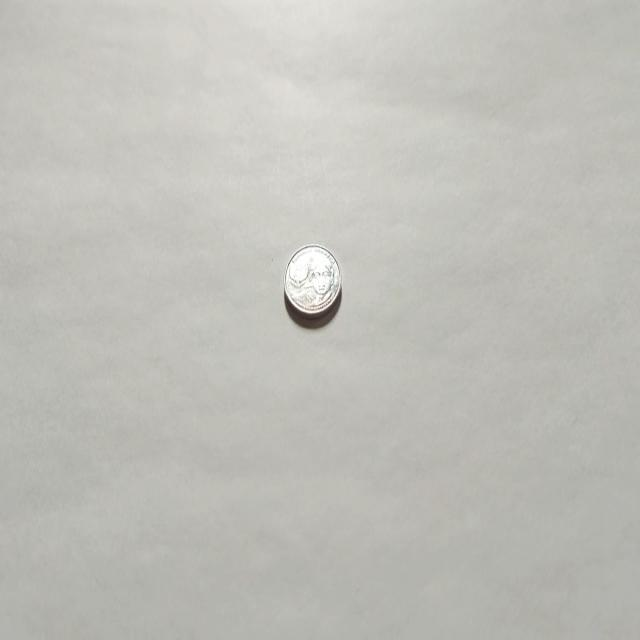dua ratus rupiah: (282, 242, 342, 322)
